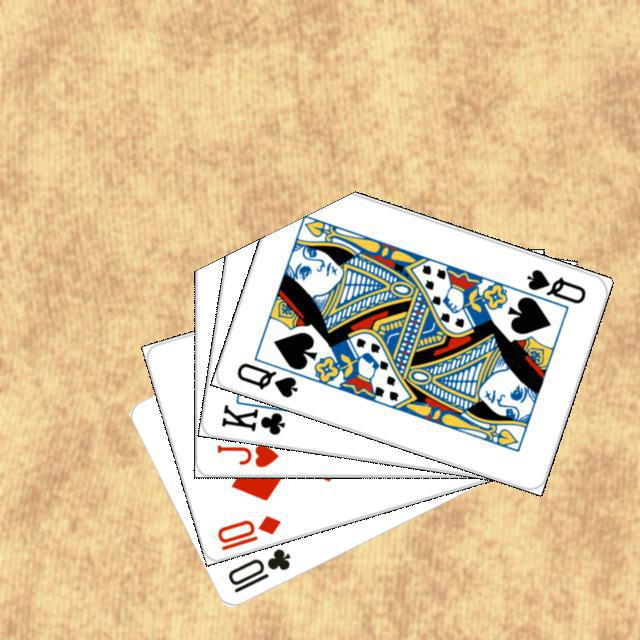10c: (222, 543, 292, 595)
10d: (212, 510, 283, 552)
Jh: (212, 440, 281, 469)
Kc: (216, 394, 296, 437)
Qs: (231, 357, 299, 400), (521, 264, 588, 306)
